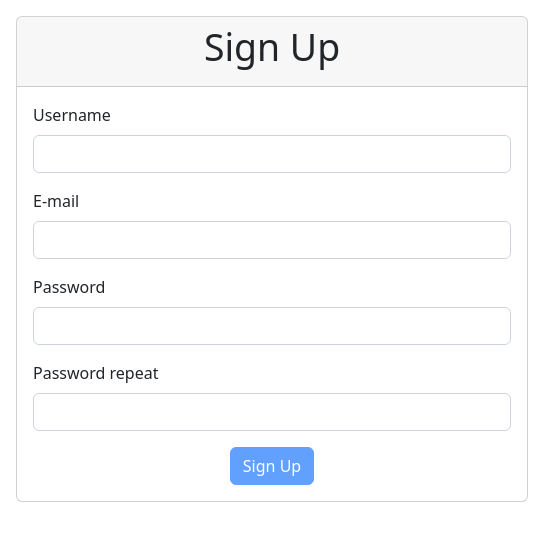
Test: Sign Up Page › Interactions › displays E-mail cannot be null for field email
Type "user1" into the field labelled "Username".
click(272, 154); type("user1")  # box [33,135,511,173]
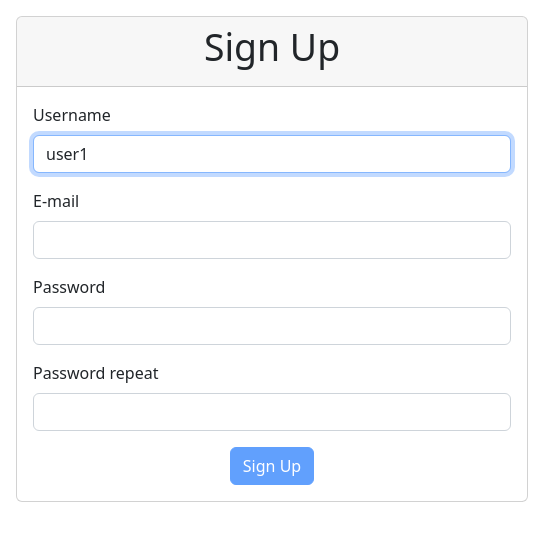
Type "user1@mail.com" into the field labelled "E-mail".
click(272, 240); type("user1@mail.com")  # box [33,221,511,259]
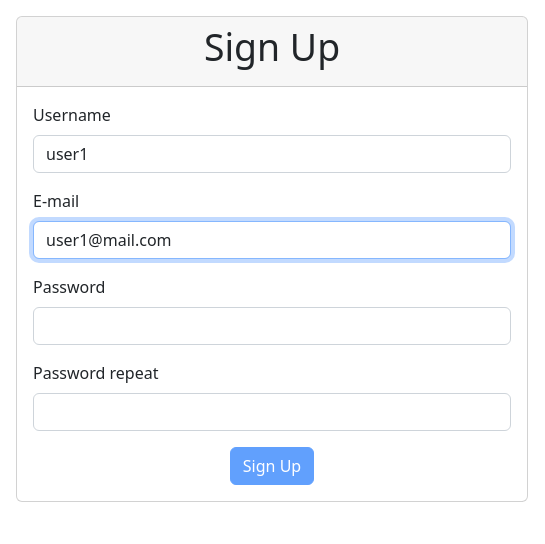
Type "P4ssword" into the password field labelled "Password".
click(272, 326); type("P4ssword")  # box [33,307,511,345]
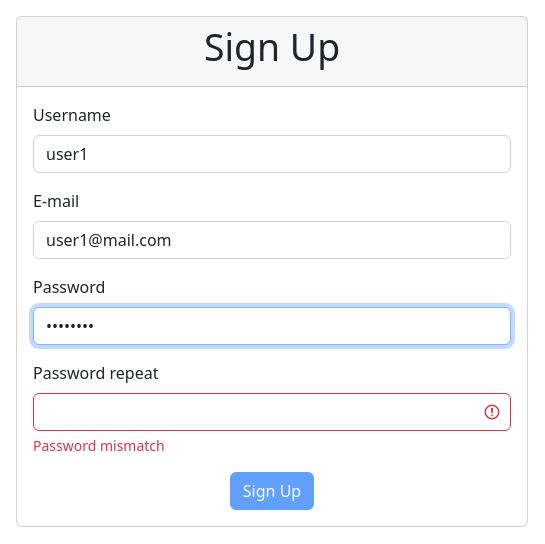
Type "P4ssword" into the password field labelled "Password repeat".
click(272, 412); type("P4ssword")  # box [33,393,511,431]
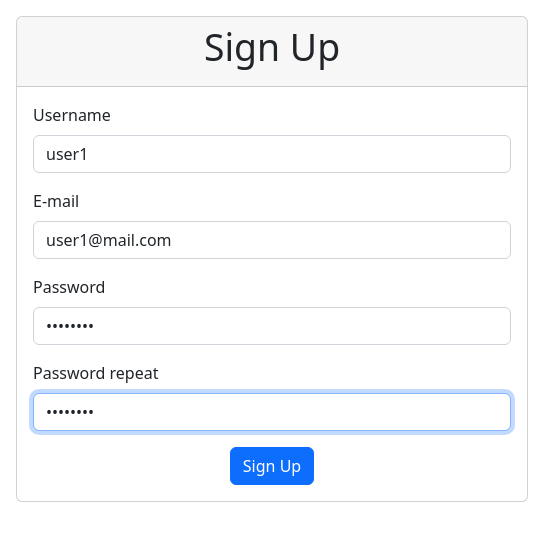
Click the button "Sign Up".
click(272, 466)  # box [230,447,314,485]
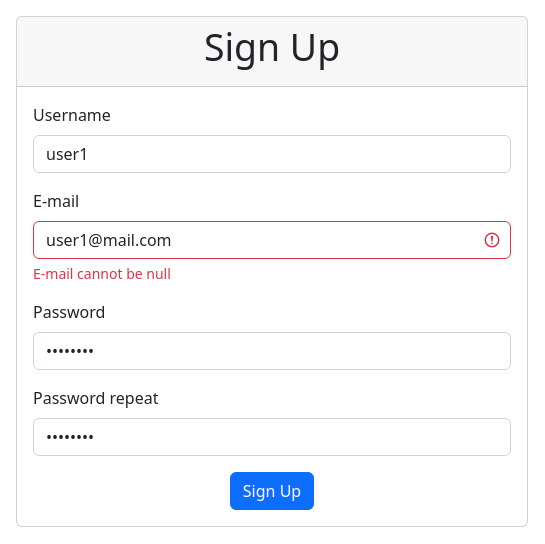
Check: the text "E-mail cannot be null" is shown, box [33,264,171,283]
